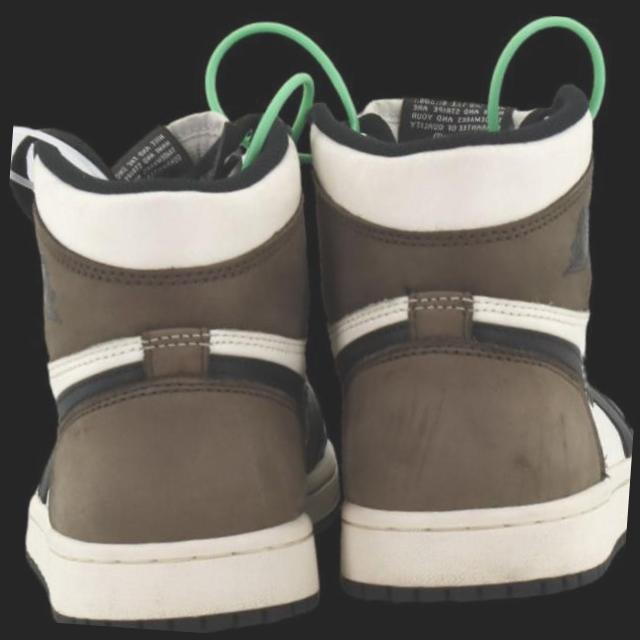nike_original_jordan: (0, 69, 381, 640), (263, 57, 640, 633)
